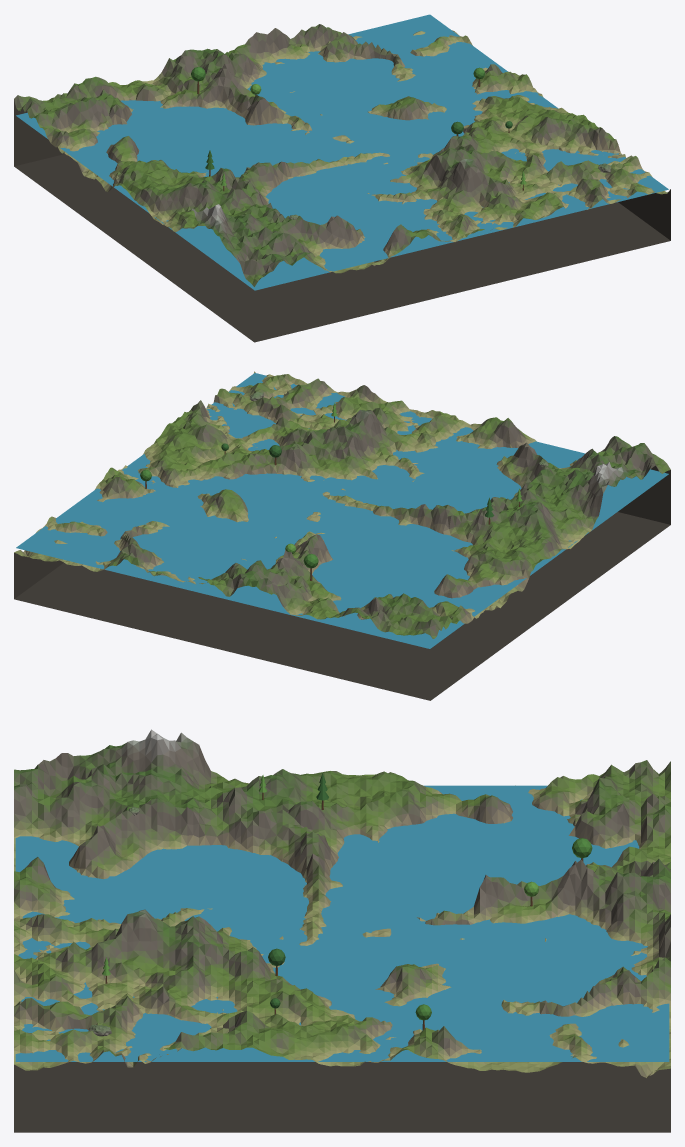
Rendered from terrain_verdant.glb.
3 views of the same model, one above another, from view 1: azimuth 30°, elevation 25°; view 2: azimuth 150°, elevation 25°; view 3: azimuth 270°, elevation 25° (orthographic). The views are drawn at different scales.
Visible parts, largest first — view 1: terrain; view 2: terrain; view 3: terrain.
Boxes of the visible parts, x1,y1,x2,y2 form: terrain: [14, 14, 670, 342]; terrain: [14, 371, 670, 700]; terrain: [14, 729, 670, 1132].
Bounding box in the file's own units: 48 × 10.73 × 48.
